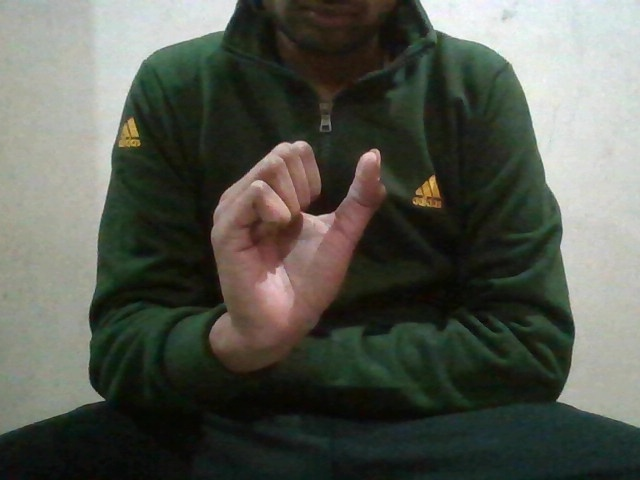S: (212, 133, 379, 344)
